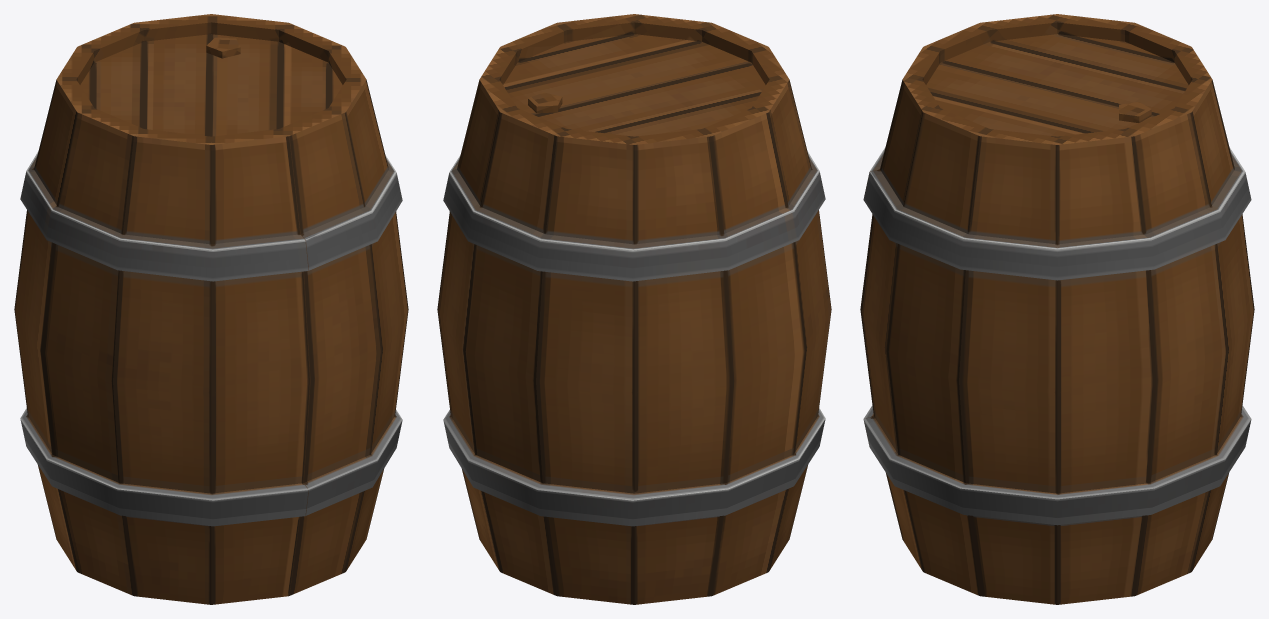
File: Barrel (1).fbx
The picture shows the model from 3 angles, left to right: view 1: azimuth 30°, elevation 25°; view 2: azimuth 150°, elevation 25°; view 3: azimuth 270°, elevation 25°; orthographic projection.
Parts seen in each view (by area): view 1: Barrel; view 2: Barrel; view 3: Barrel.
Part boxes in pixels (left/top/right/bottom): Barrel: left=14, top=14, right=408, bottom=604; Barrel: left=437, top=14, right=831, bottom=604; Barrel: left=860, top=14, right=1254, bottom=604.
Size of the model in its own units: 116 by 149 by 116.
